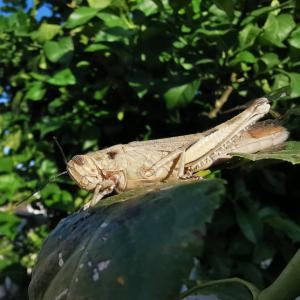locust: (39, 82, 292, 244)
